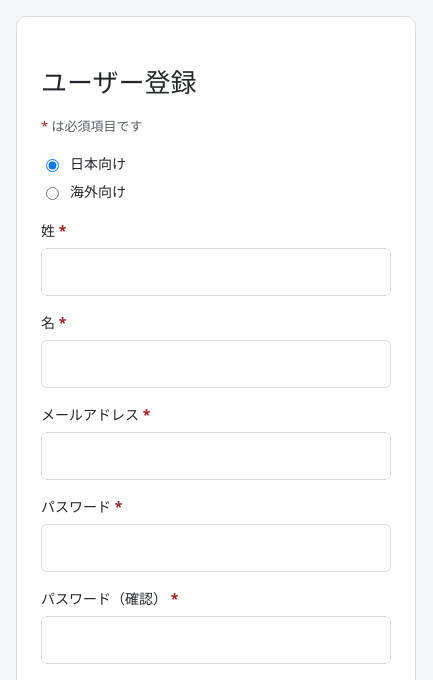
RegisterPage › 海外向けへ切り替えるとFirst name/Middle name/Last nameの入力欄が表示される
The width and height of the screenshot is (433, 680).
Click the radio button labelled "海外向け" at (52, 194), box [46,188,59,200]
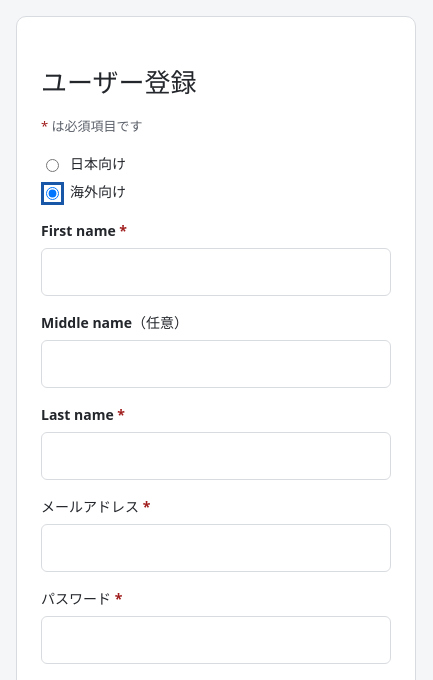
Check: the field labelled "First name" is shown, box [41,248,391,296]
Check: the label labelled "姓" is gone
Check: the label labelled "名" is gone
